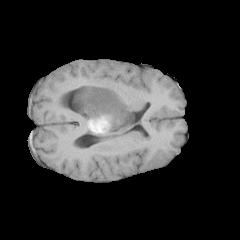glioma: (73, 84, 134, 135)
